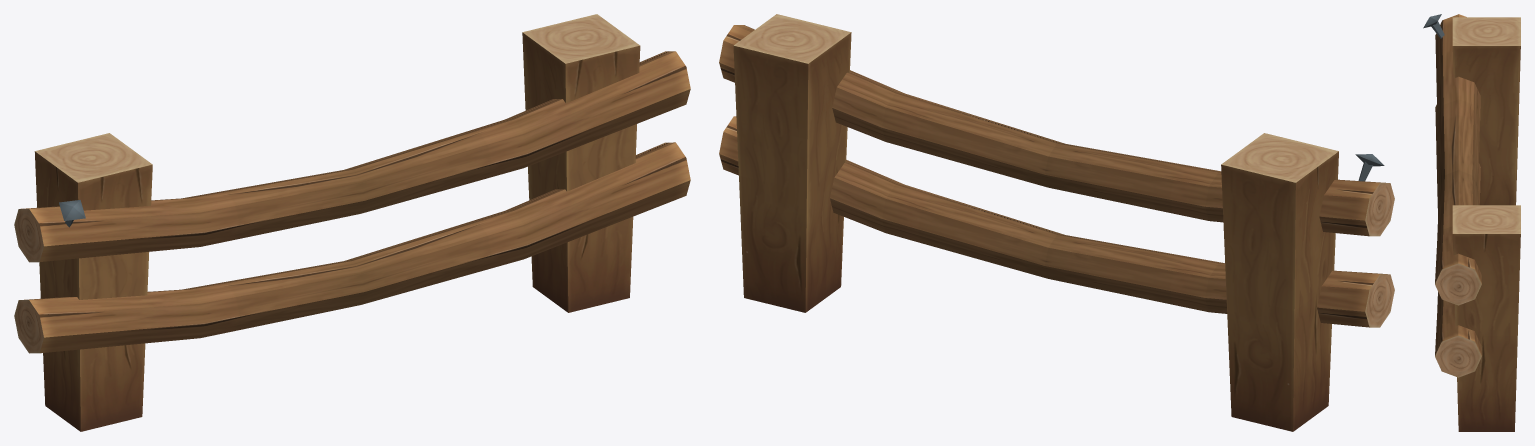
File: wooden_fence_12.fbx
3 renders of one model, left to right at view 1: azimuth 30°, elevation 25°; view 2: azimuth 150°, elevation 25°; view 3: azimuth 270°, elevation 25°, orthographic. The views are drawn at different scales.
Visible parts, largest first — view 1: wooden_fence_12:Mesh; view 2: wooden_fence_12:Mesh; view 3: wooden_fence_12:Mesh.
Part boxes in pixels (x1=…): wooden_fence_12:Mesh: x1=14, y1=14, x2=690, y2=431; wooden_fence_12:Mesh: x1=719, y1=14, x2=1394, y2=431; wooden_fence_12:Mesh: x1=1423, y1=14, x2=1520, y2=431.
Size of the model in its own units: 7.19 by 2.7 by 1.19.
